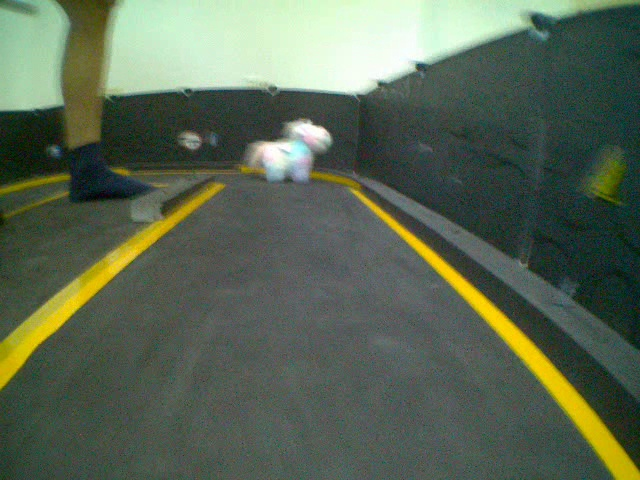unicorn: (245, 112, 332, 190)
